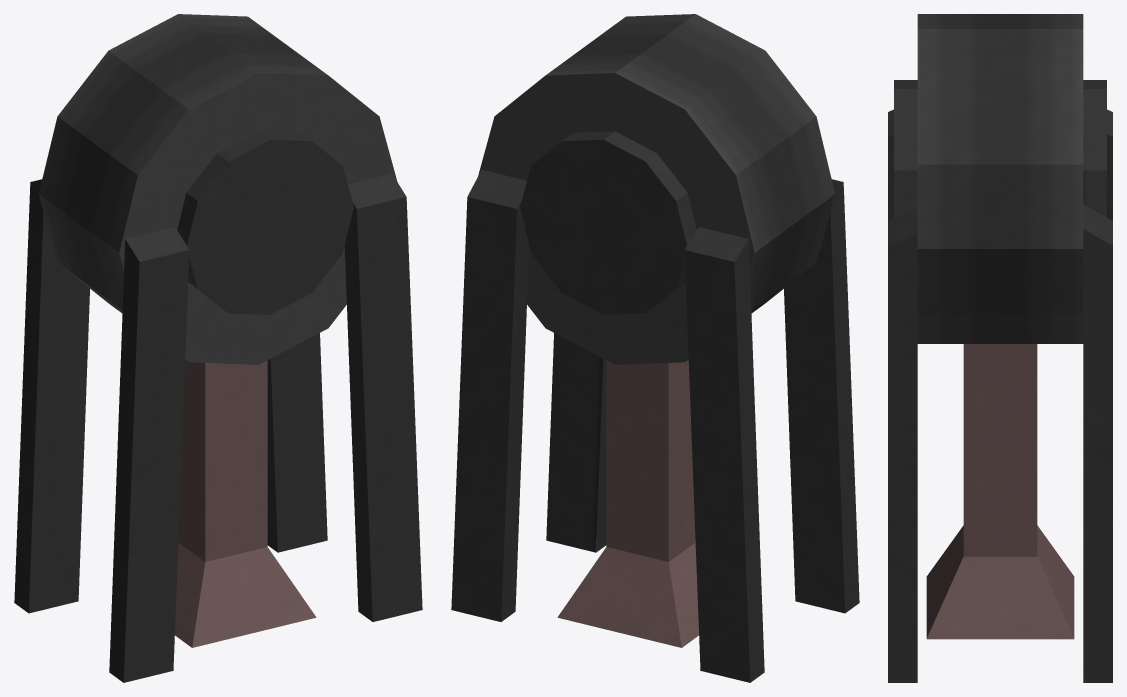
The model's file is selenium_body.obj.
The picture shows the model from 3 angles, left to right: view 1: azimuth 30°, elevation 25°; view 2: azimuth 150°, elevation 25°; view 3: azimuth 270°, elevation 25°; orthographic projection. The views are drawn at different scales.
Parts seen in each view (by area): view 1: Cylinder_Cylinder.001; view 2: Cylinder_Cylinder.001; view 3: Cylinder_Cylinder.001.
Part boxes in pixels (x1,y1,x2,y2): Cylinder_Cylinder.001: [14, 14, 422, 682]; Cylinder_Cylinder.001: [451, 14, 859, 682]; Cylinder_Cylinder.001: [888, 14, 1112, 682].
Bounding box in the file's own units: 0.75 × 1.35 × 0.475.
